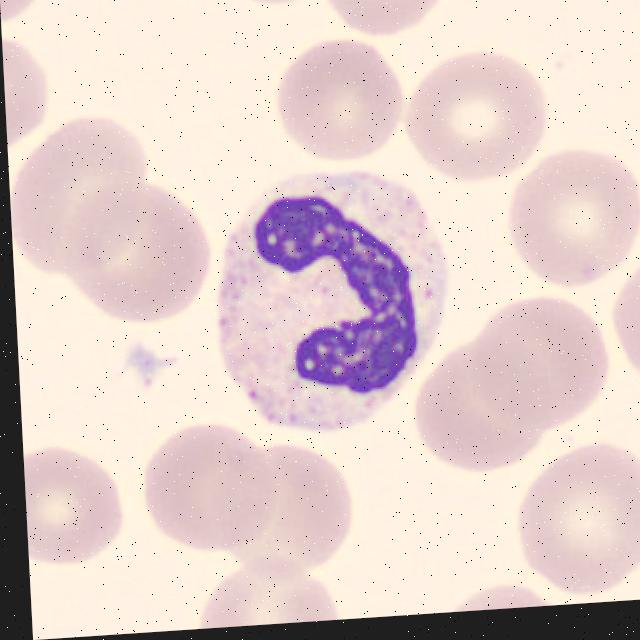neutrophil: (209, 161, 458, 443)
rbc: (50, 165, 221, 331), (397, 35, 564, 195), (6, 107, 156, 280), (213, 429, 372, 586), (493, 136, 640, 296), (256, 30, 406, 183), (504, 430, 640, 596), (466, 289, 615, 439), (411, 327, 555, 481), (138, 415, 291, 558), (23, 434, 131, 575), (179, 546, 351, 630), (1, 21, 50, 152), (323, 0, 463, 43), (430, 570, 562, 613), (604, 252, 640, 391), (209, 0, 329, 19), (0, 0, 57, 29)
